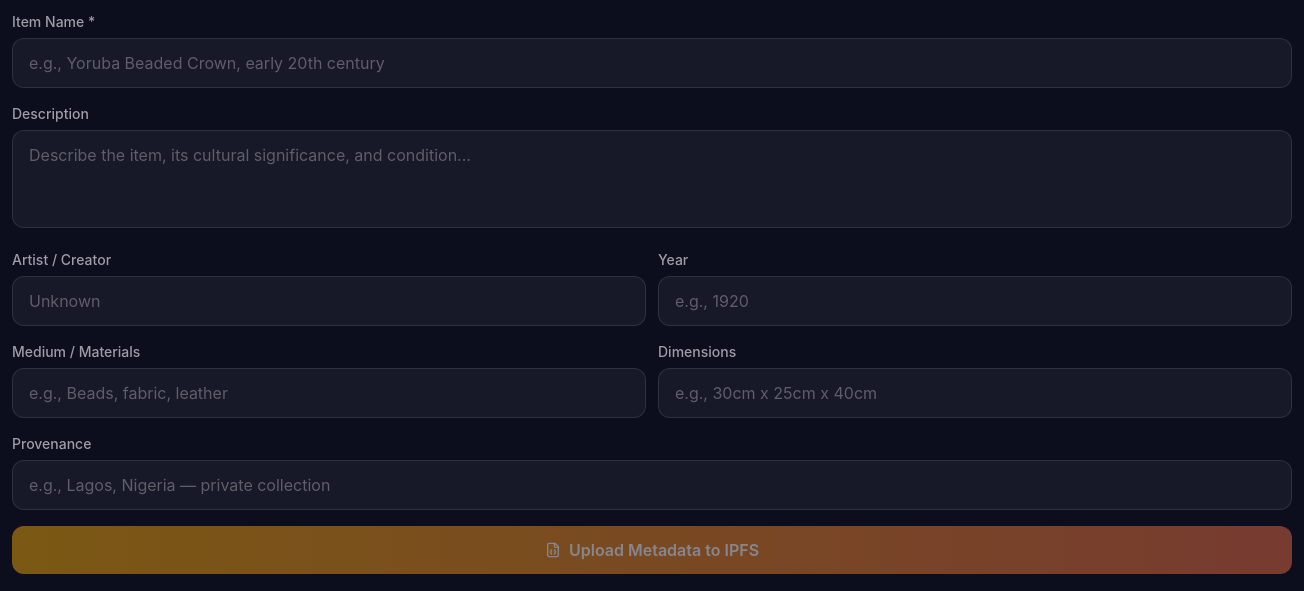
Test: IPFSUploader — Metadata mode › enables upload button when name is filled
Type "Test Artifact" into the field with placeholder "e.g., Yoruba Beaded Crown, early 20th century".
click(652, 63); type("Test Artifact")  # box [12,38,1292,88]
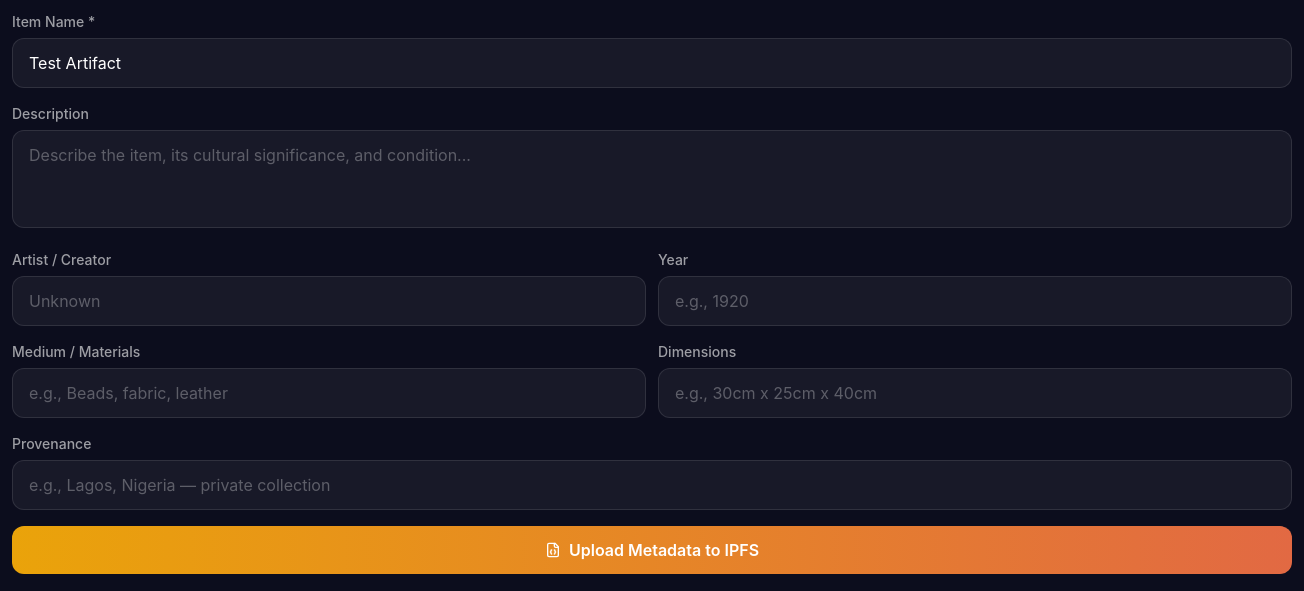
Expected: the button "Upload Metadata to IPFS" is enabled, [12,526,1292,574]
